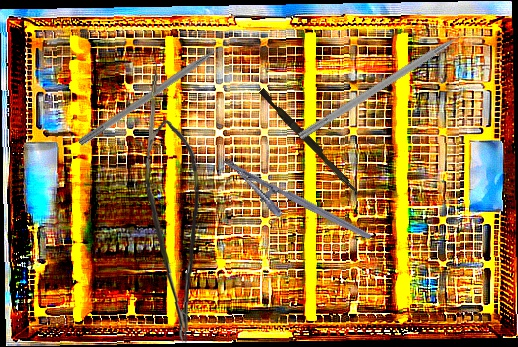Chopper: (297, 22, 486, 150), (138, 55, 161, 187)
Micro Scissor: (137, 117, 203, 343)
Needle Holder: (212, 156, 373, 261)
Pusher: (77, 34, 240, 148), (256, 88, 364, 196)
